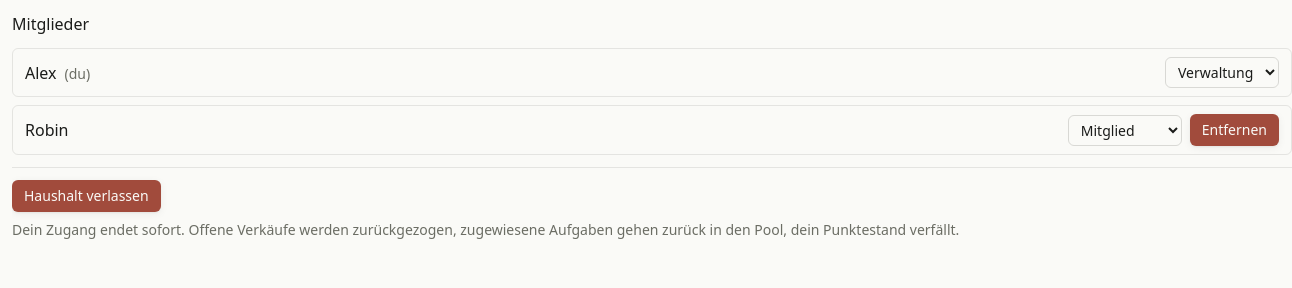
Test: a last_admin refusal shows its own sentence
The width and height of the screenshot is (1292, 288).
Click the button "Haushalt verlassen" at (86, 196), box [12, 180, 161, 212]
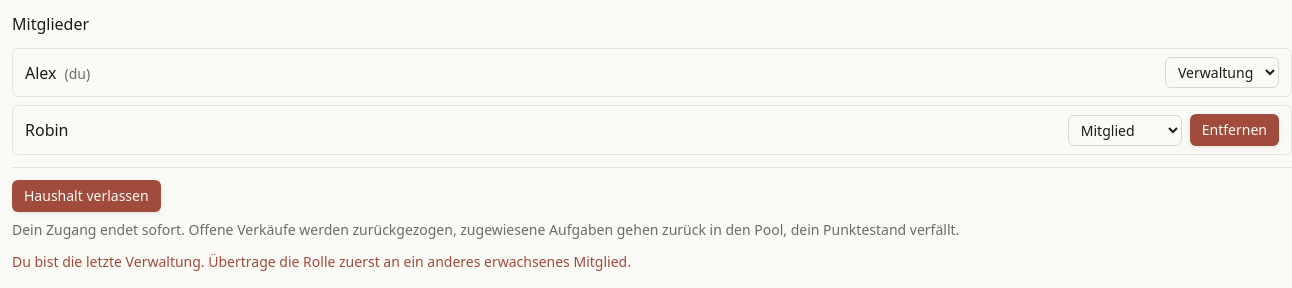
Check: the message shows "Du bist die letzte Verwaltung. Übertrage die Rolle zuerst an ein anderes erwachsenes Mitglied.", box [12, 252, 631, 271]
